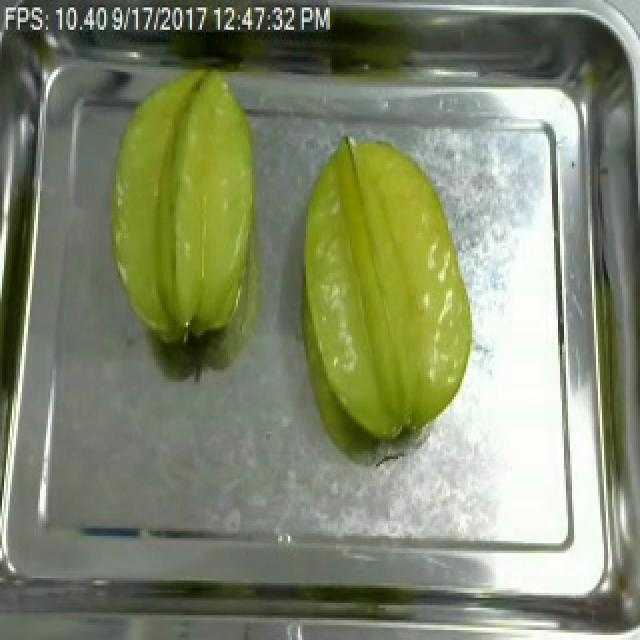fruit: (288, 129, 480, 454), (96, 57, 270, 365)
